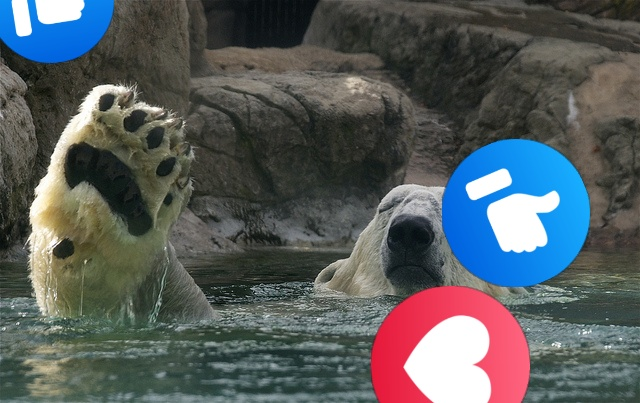like: (442, 139, 590, 287), (0, 0, 114, 63)
love: (371, 286, 530, 403)
